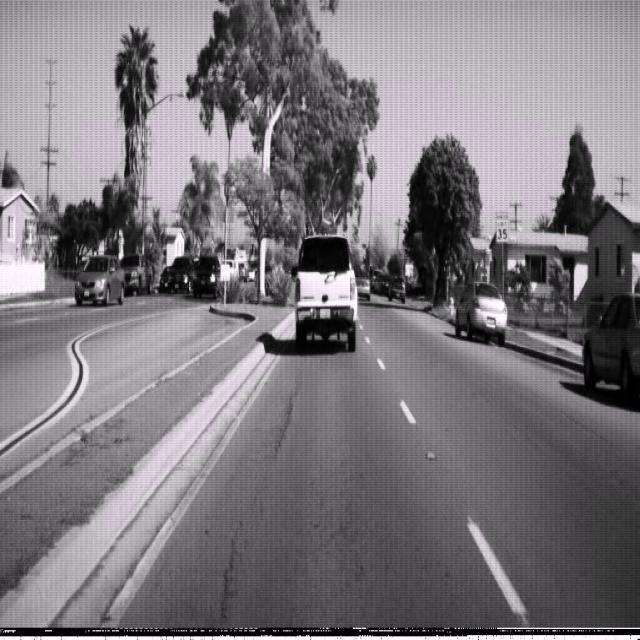speedLimit35: (494, 207, 510, 243)
